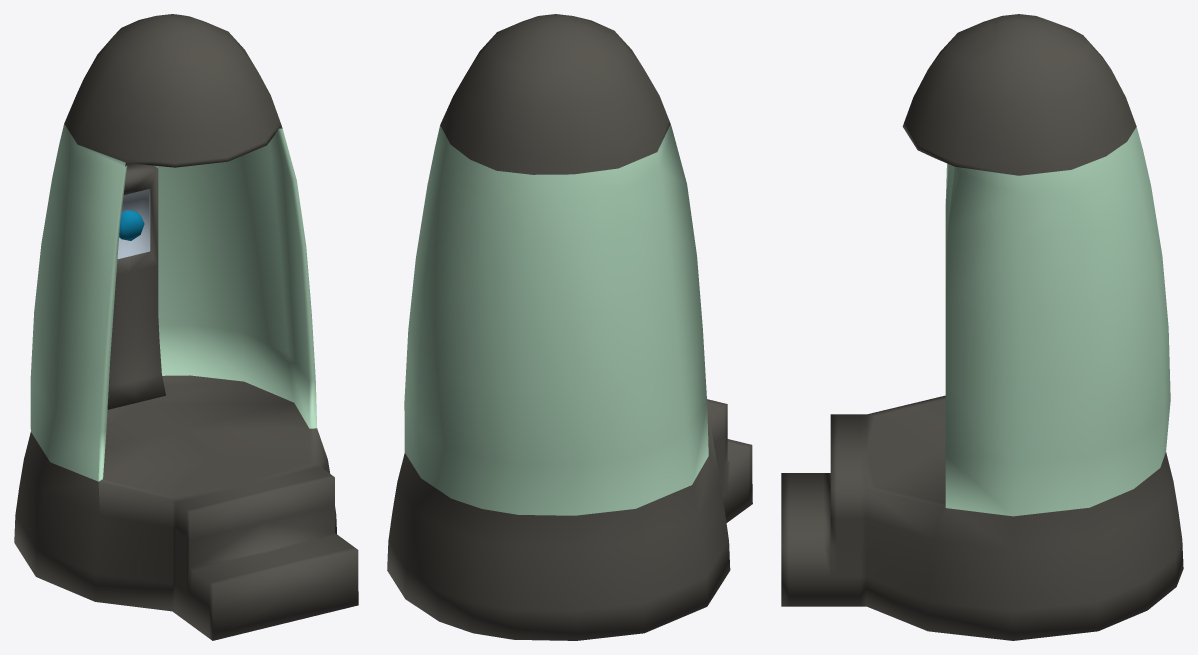
Rendered from Cápsula de recuperacion.fbx.
3 views of the same model, side by side, from view 1: azimuth 30°, elevation 25°; view 2: azimuth 150°, elevation 25°; view 3: azimuth 270°, elevation 25° (orthographic). The views are drawn at different scales.
Parts seen in each view (by area): view 1: Circle, Circle.002, Circle.003; view 2: Circle; view 3: Circle.
Boxes of the visible parts, left/top/right/bottom form: Circle: left=14, top=14, right=358, bottom=640; Circle.002: left=107, top=163, right=165, bottom=409; Circle.003: left=119, top=210, right=144, bottom=240; Circle: left=387, top=14, right=752, bottom=640; Circle: left=781, top=14, right=1183, bottom=640.
Bounding box in the file's own units: 115 × 204 × 136.
